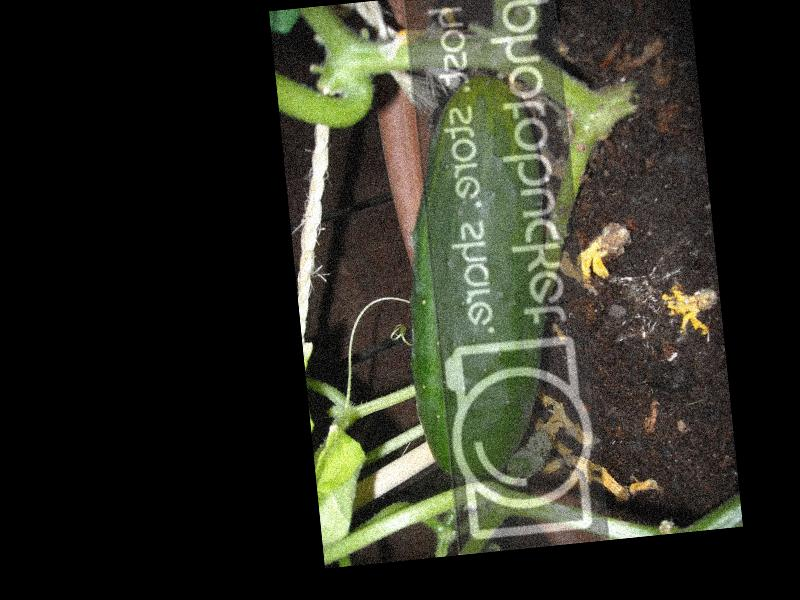Cucumber: (385, 71, 572, 483)
